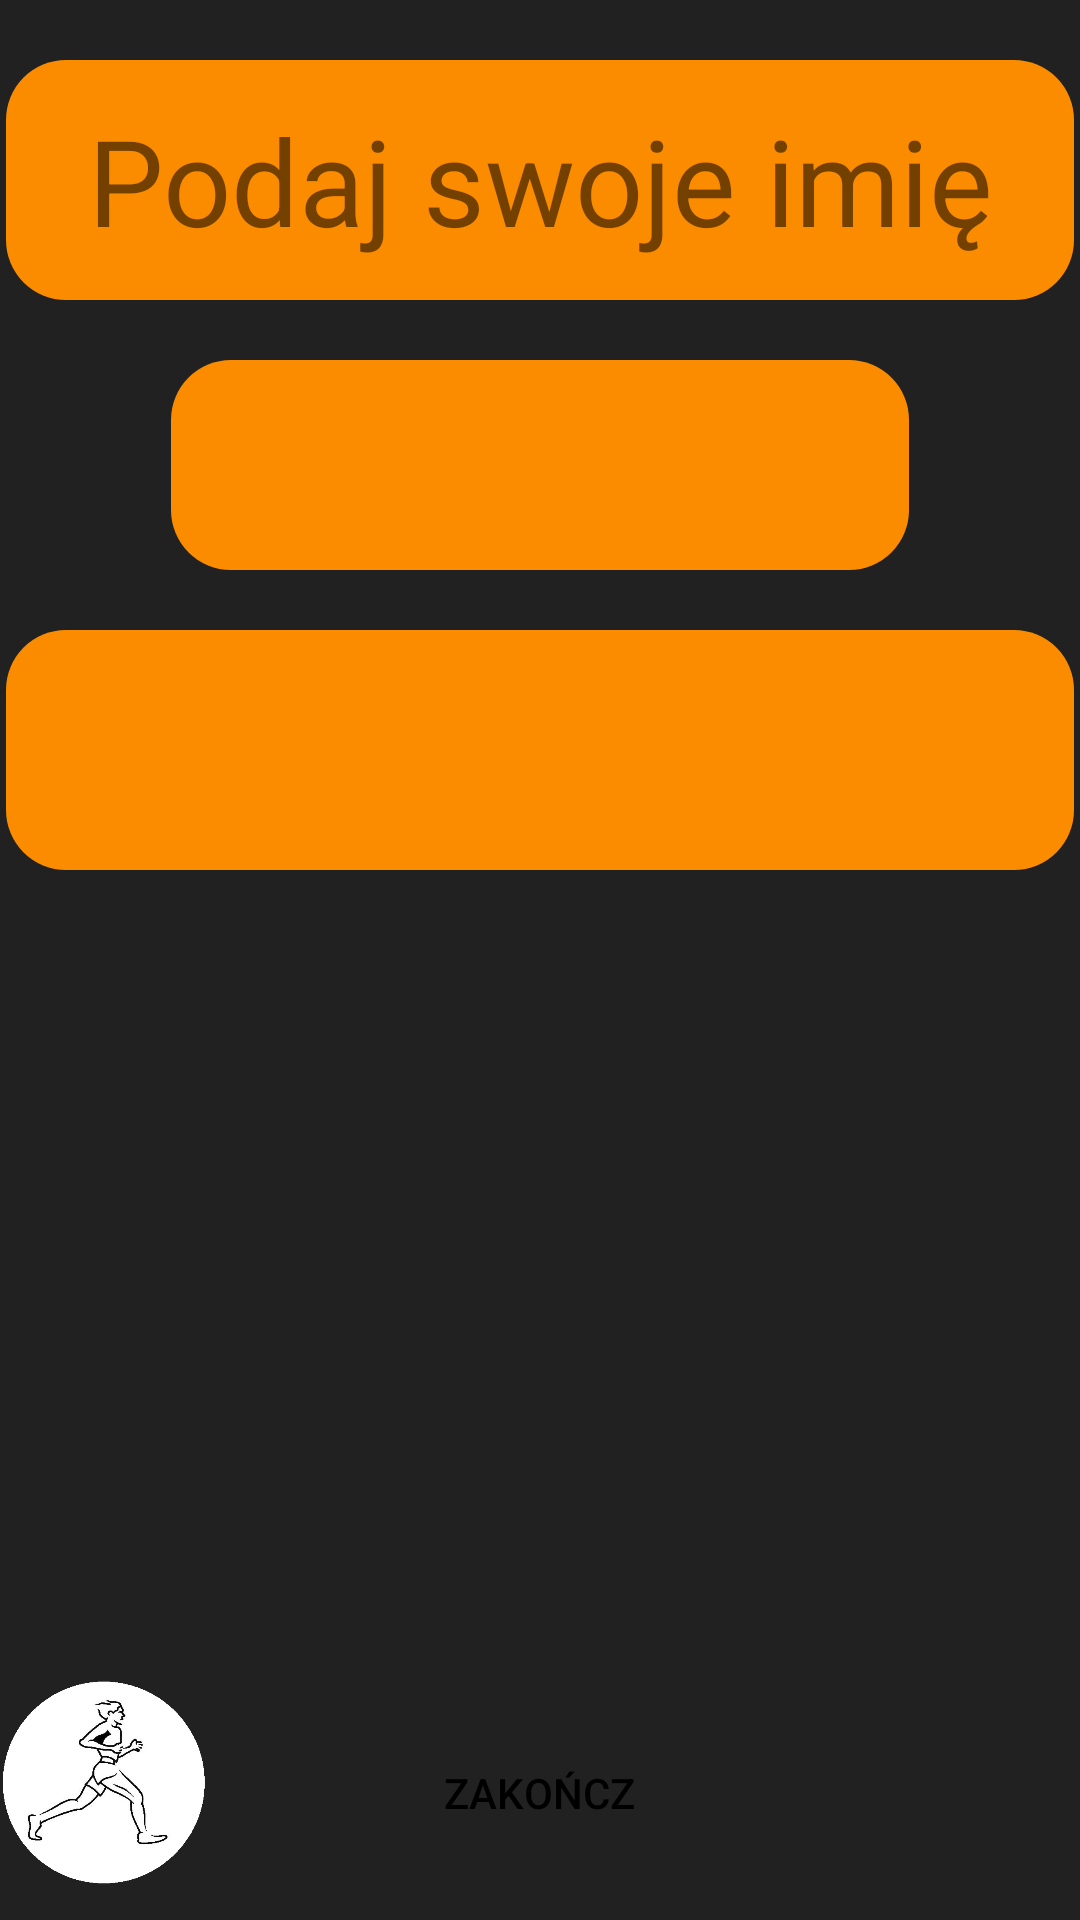

Icons on this 1080px×1920px Android screen, each with the point to tap as (x,y):
biegaczz: (104,1782)
